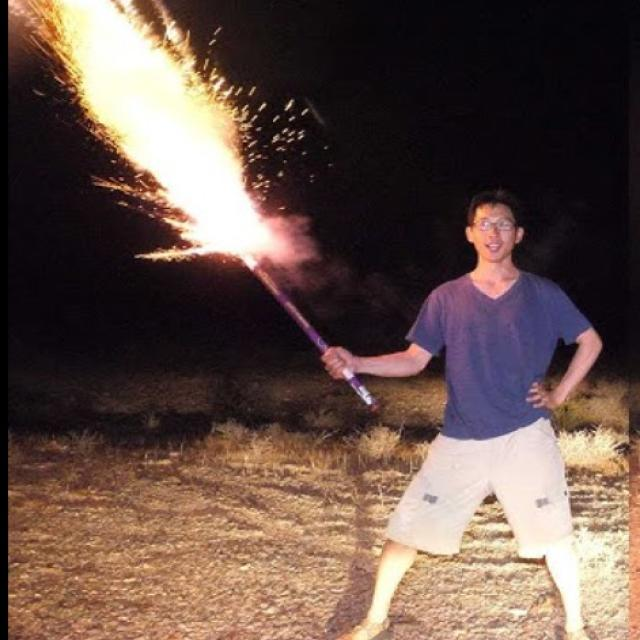fire: (53, 0, 277, 270)
